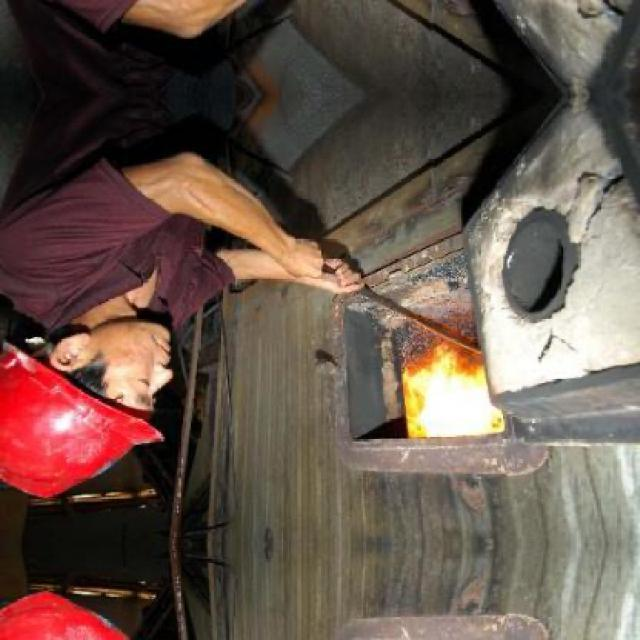con casco: (0, 243, 203, 506)
